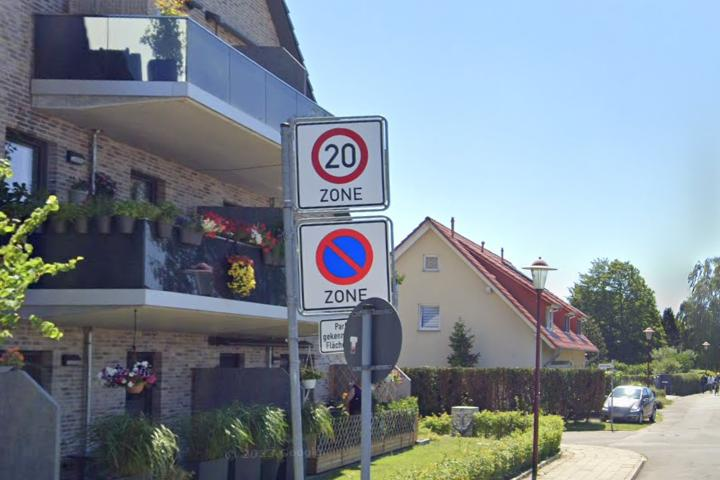traffic_sign: (314, 227, 375, 287), (310, 127, 370, 185)
vehicle: (598, 382, 658, 426)
